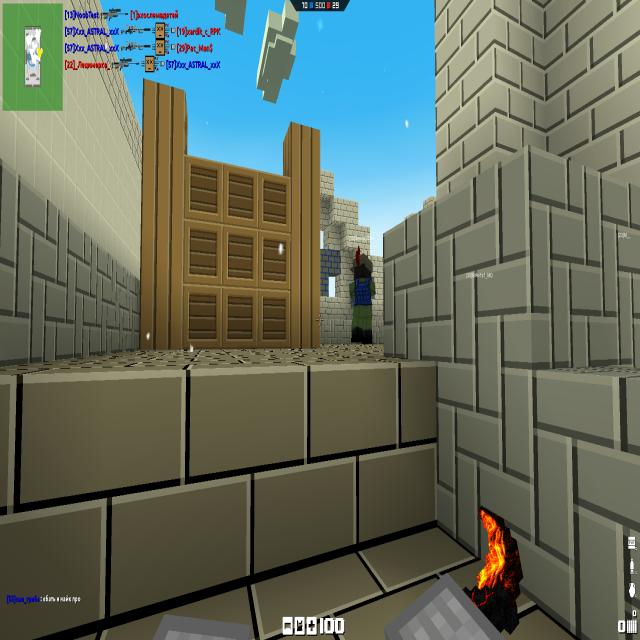player: (348, 247, 373, 346)
